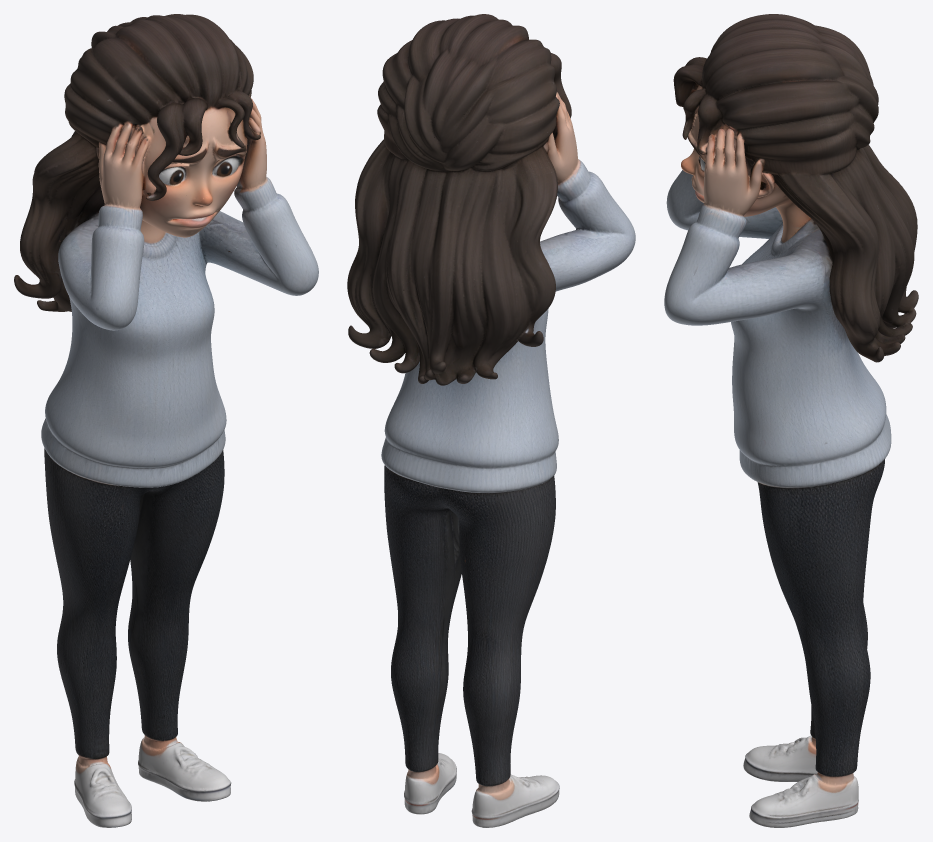
The model's file is overwhelmed_part.glb.
3 views of the same model, side by side, from view 1: azimuth 30°, elevation 25°; view 2: azimuth 150°, elevation 25°; view 3: azimuth 270°, elevation 25° (orthographic). The views are drawn at different scales.
Size of the model in its own units: 0.5988 by 2 by 0.5948.
Materials: 1 (1 with a texture image).
